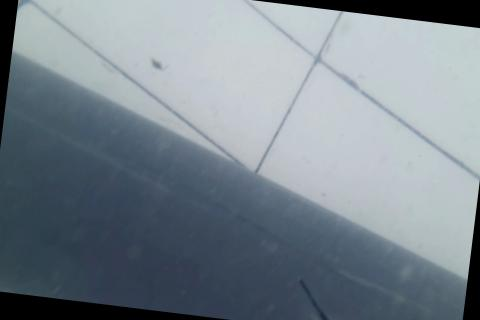keretakan: (293, 275, 358, 320)
